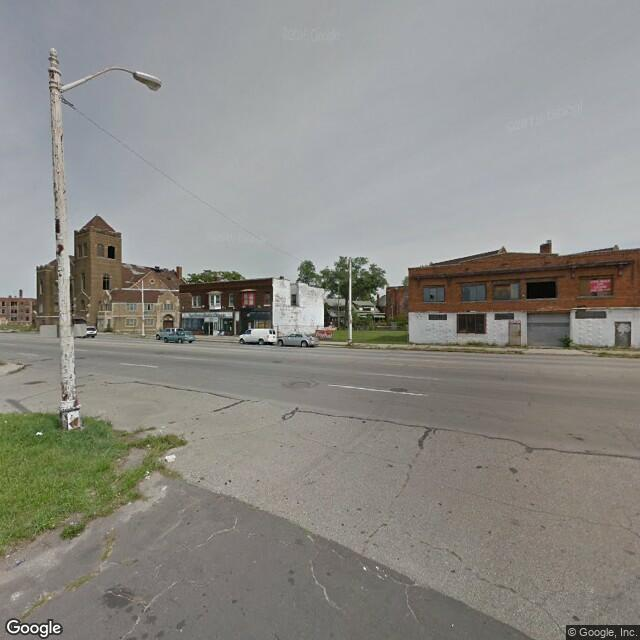litter: (28, 423, 50, 440), (163, 450, 179, 465), (141, 466, 155, 481)
